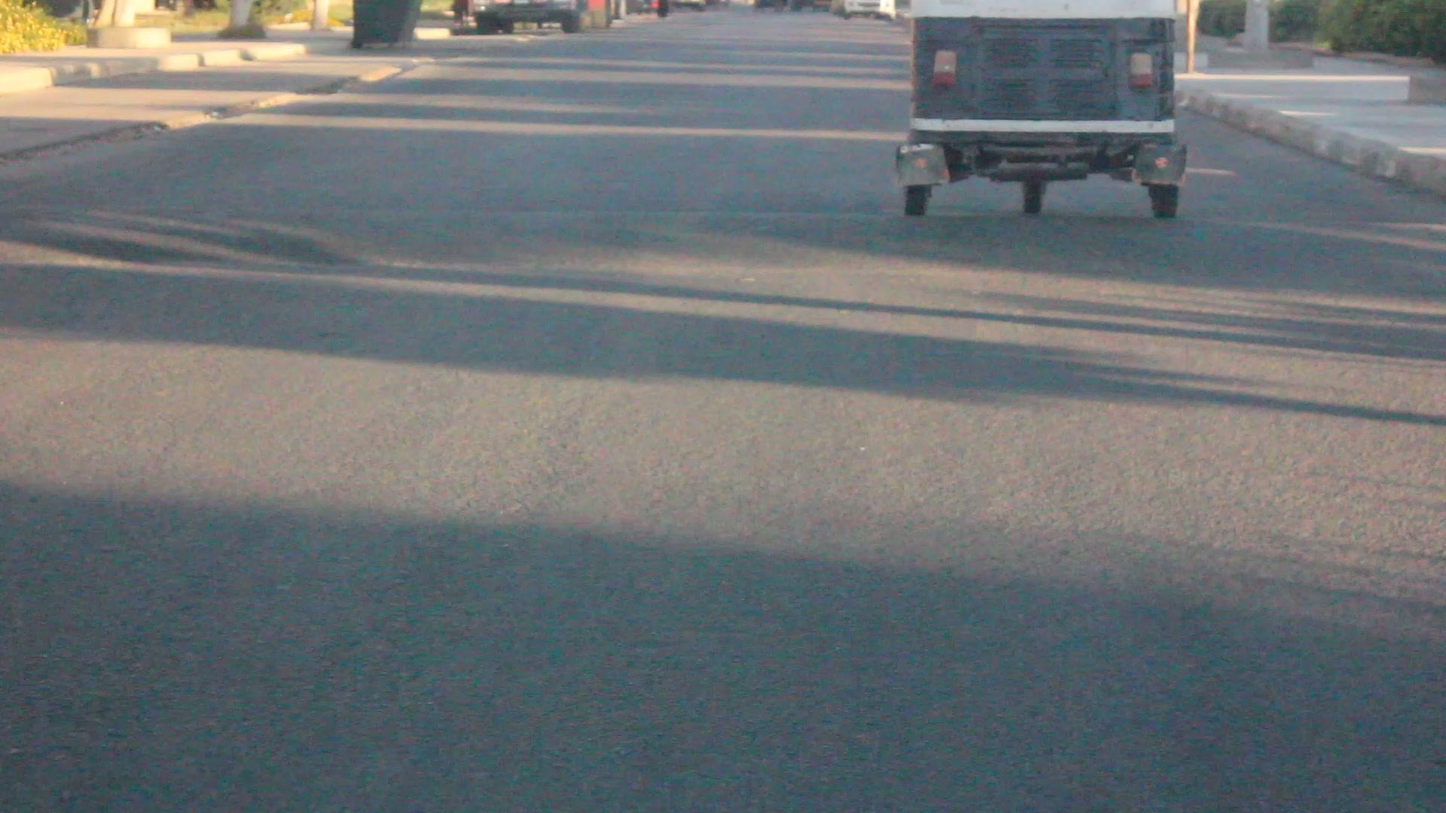Bump: (0, 199, 1446, 301)
